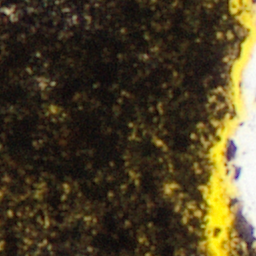cement_matrix: (0, 0, 242, 255), (233, 219, 255, 255)
cracks: (202, 0, 255, 255)
gravel_crushed_stones: (230, 40, 255, 232)
